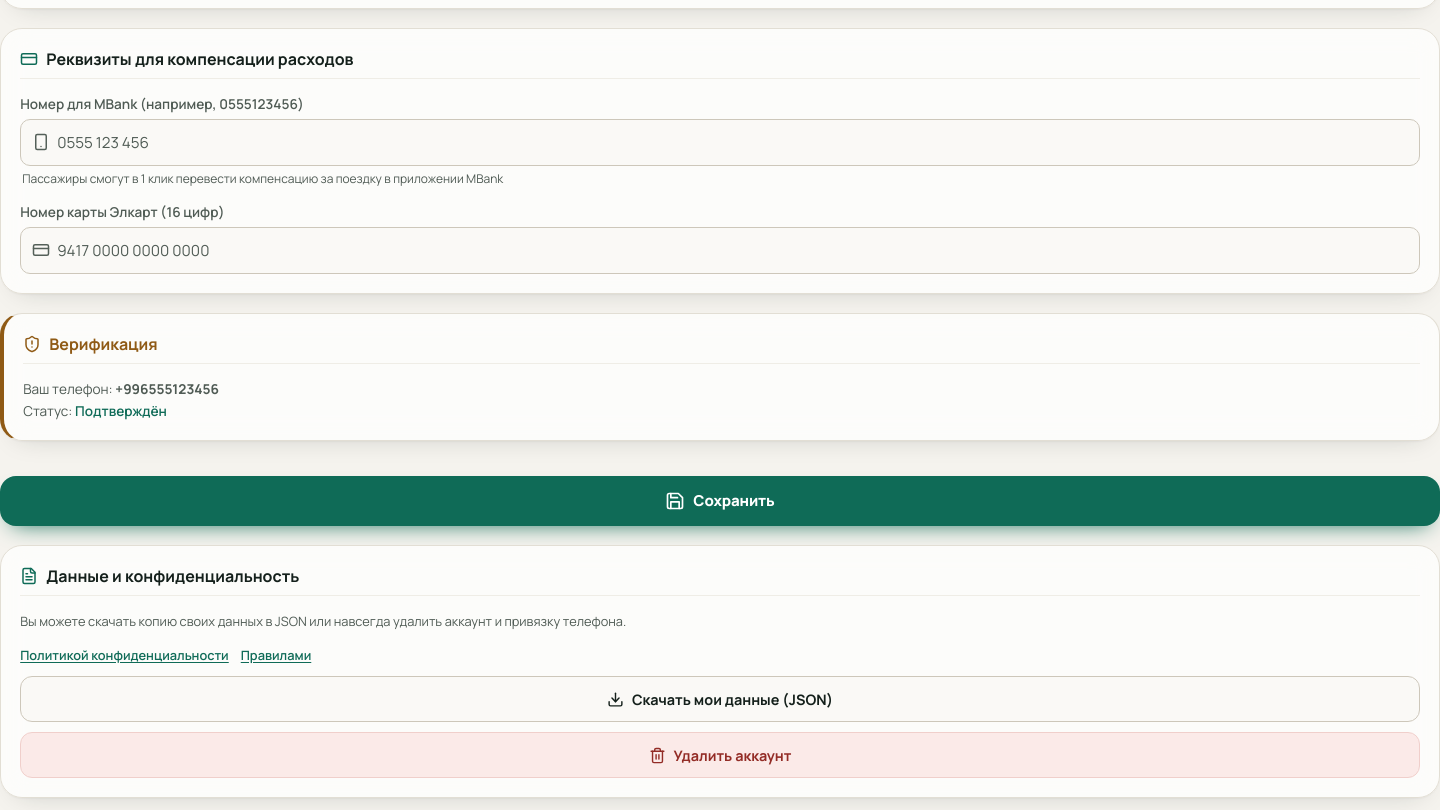
Scenario: Settings privacy export and account deletion › requires explicit confirmation before deleting account and handles 409 error
The image size is (1440, 810).
Later steps or results of the test are not shown.
(page scrolled)
Click the button "Удалить аккаунт".
click(720, 755)  # box [20,732,1420,778]
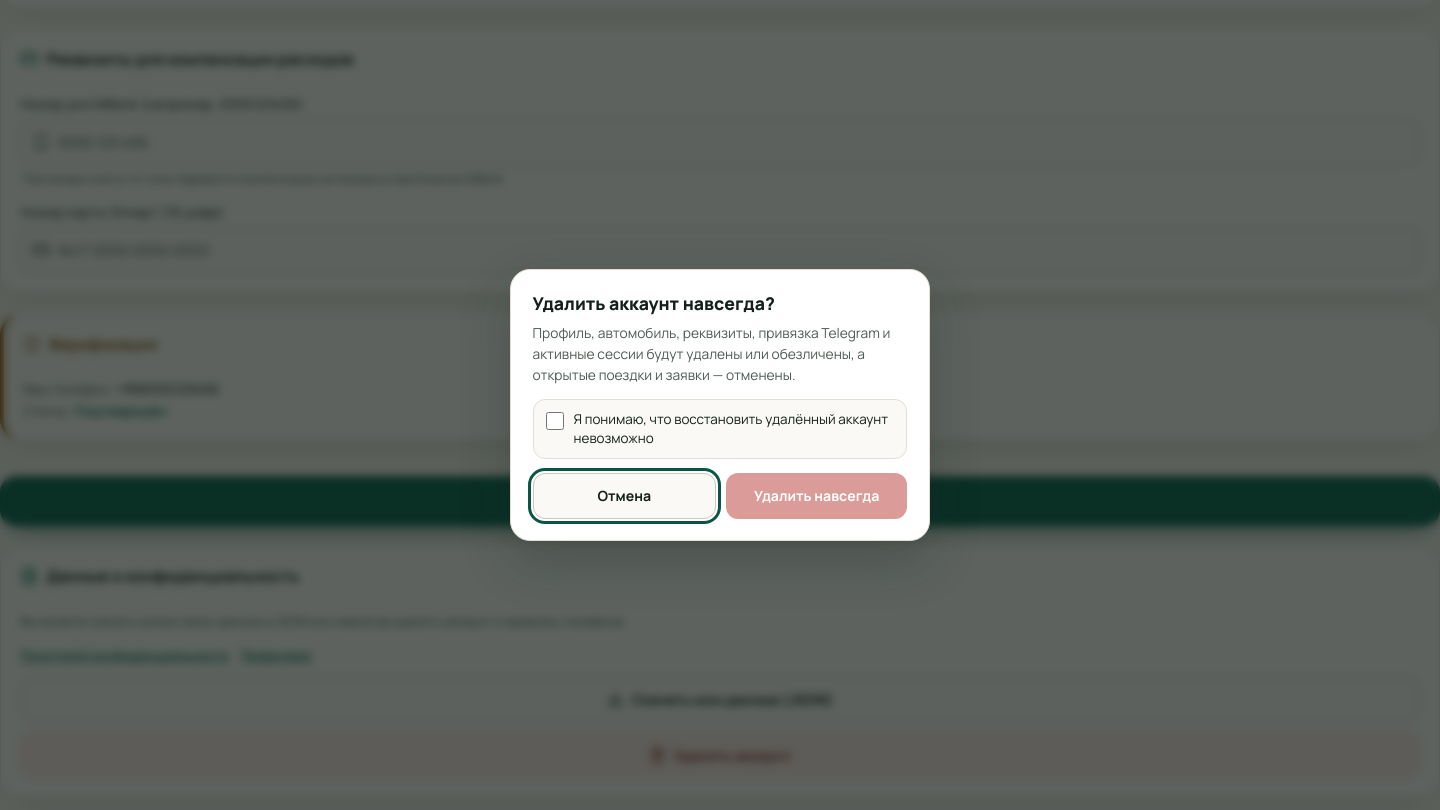
Expected: the dialog is shown, [510,269,930,541]
Expected: the button "Удалить навсегда" is disabled, [726,473,907,519]
Click the checkbox labelled "Я понимаю, что восстановить удалённый аккаунт невозможно".
click(555, 421)  # box [546,412,564,430]
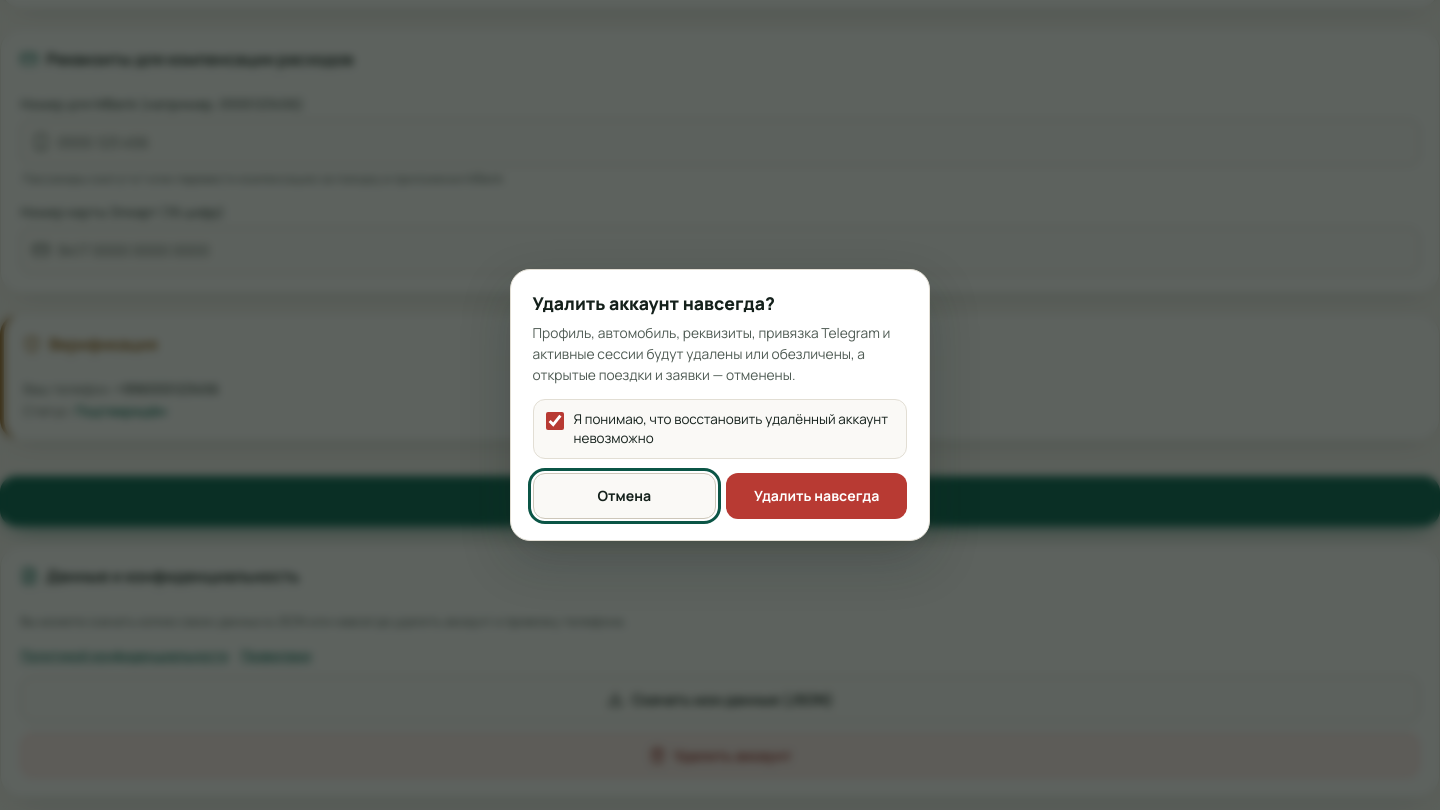
Expected: the button "Удалить навсегда" is enabled
Click the button "Удалить навсегда".
click(817, 496)  # box [726,473,907,519]
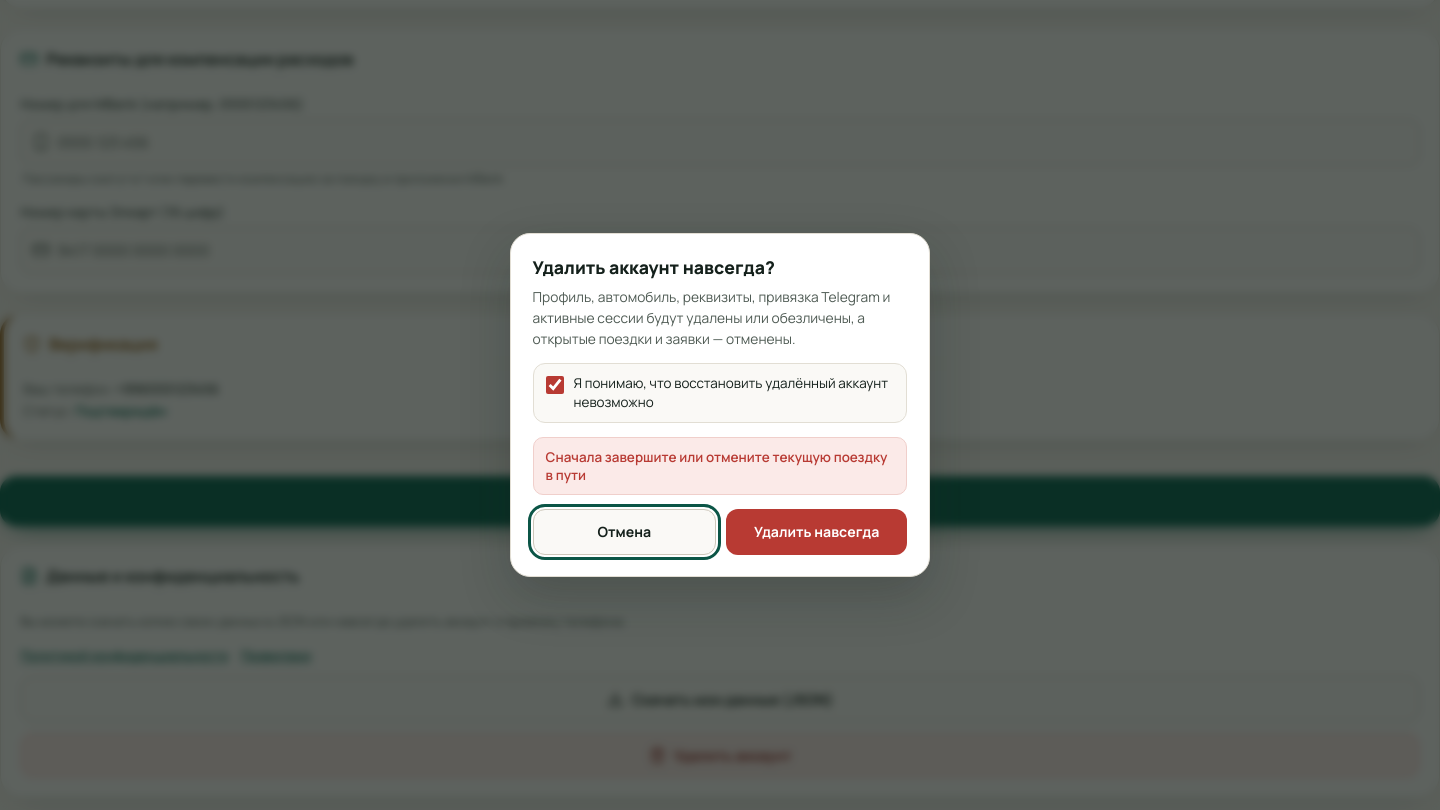
Expected: the text "Сначала завершите или отмените текущую поездку в пути" is shown, [533,437,907,495]
